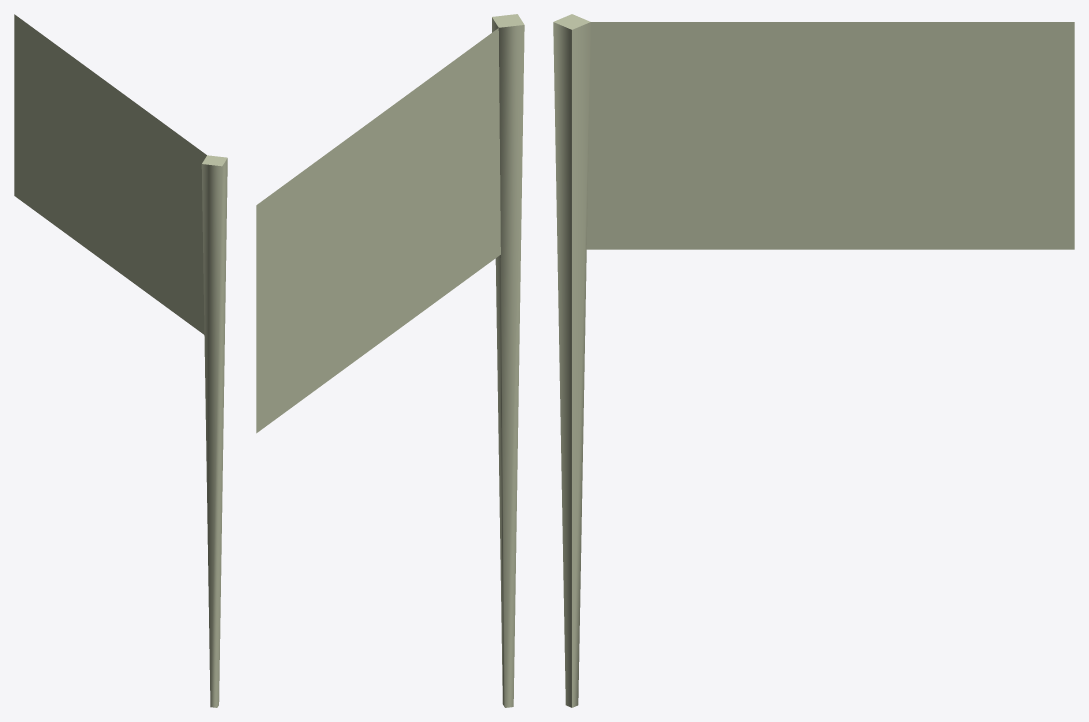
The model's file is flagtest3e.obj.
The picture shows the model from 3 angles, left to right: view 1: azimuth 30°, elevation 25°; view 2: azimuth 150°, elevation 25°; view 3: azimuth 270°, elevation 25°; orthographic projection. The views are drawn at different scales.
Visible parts, largest first — view 1: object_0; view 2: object_0; view 3: object_0.
Part boxes in pixels (x1=…): object_0: x1=14, y1=14, x2=227, y2=707; object_0: x1=256, y1=14, x2=524, y2=707; object_0: x1=553, y1=14, x2=1074, y2=707.
Bounding box in the file's own units: 0.15 × 3 × 2.08.
